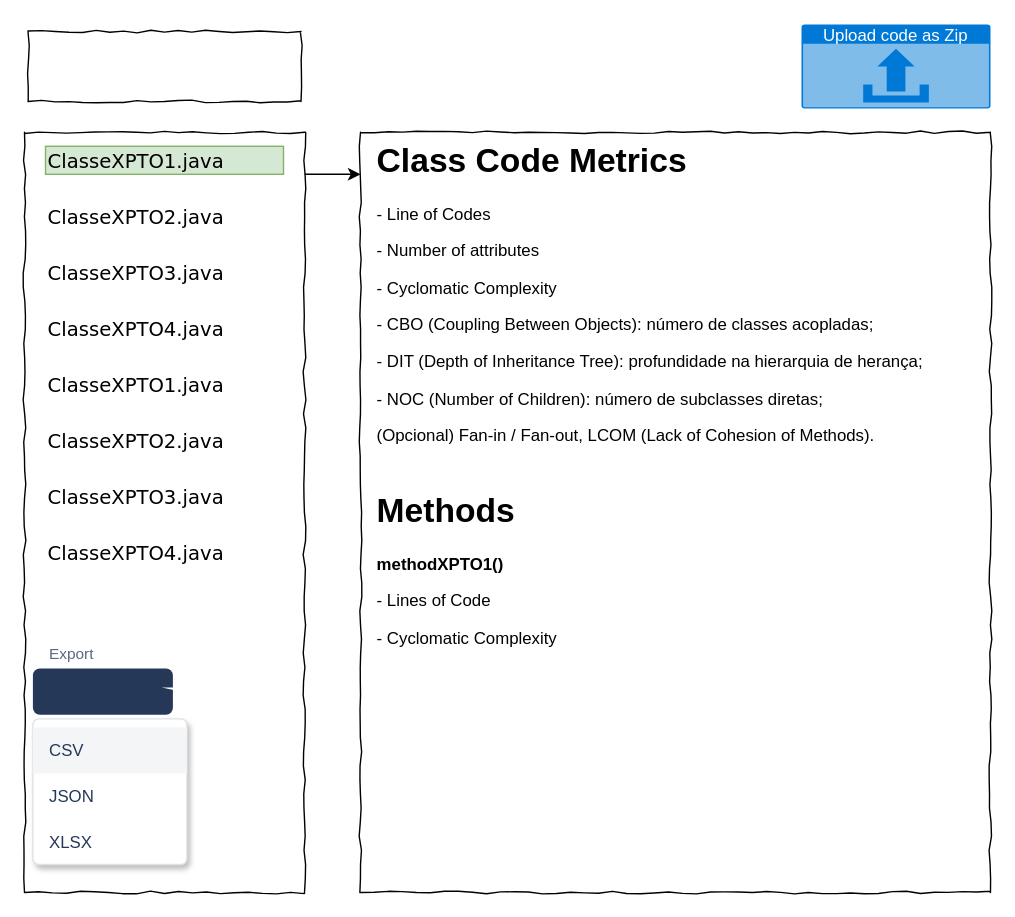
The diagram is 1015 pixels wide and 917 high, and some of its shapes have lost their labels. Each missing label, with the centre of its shape:
"AnalyX" goes at [164,66].
"Format" goes at [102,691].
